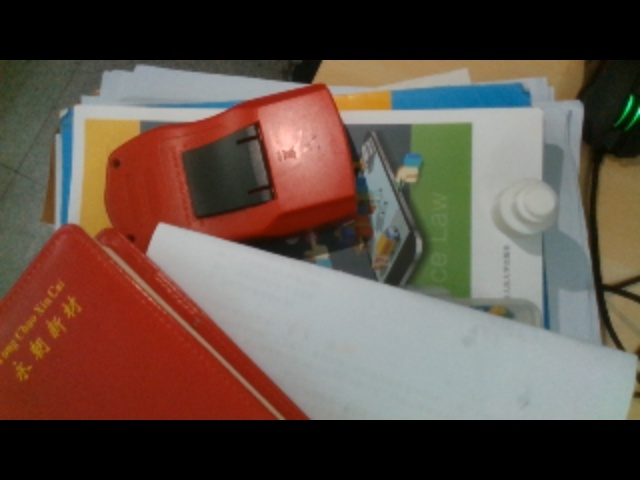Multimeter: (100, 83, 357, 257)
Screw holes: (110, 156, 124, 171)
